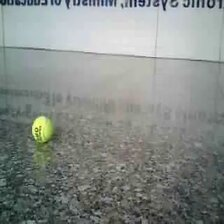tennis: (31, 116, 53, 144)
